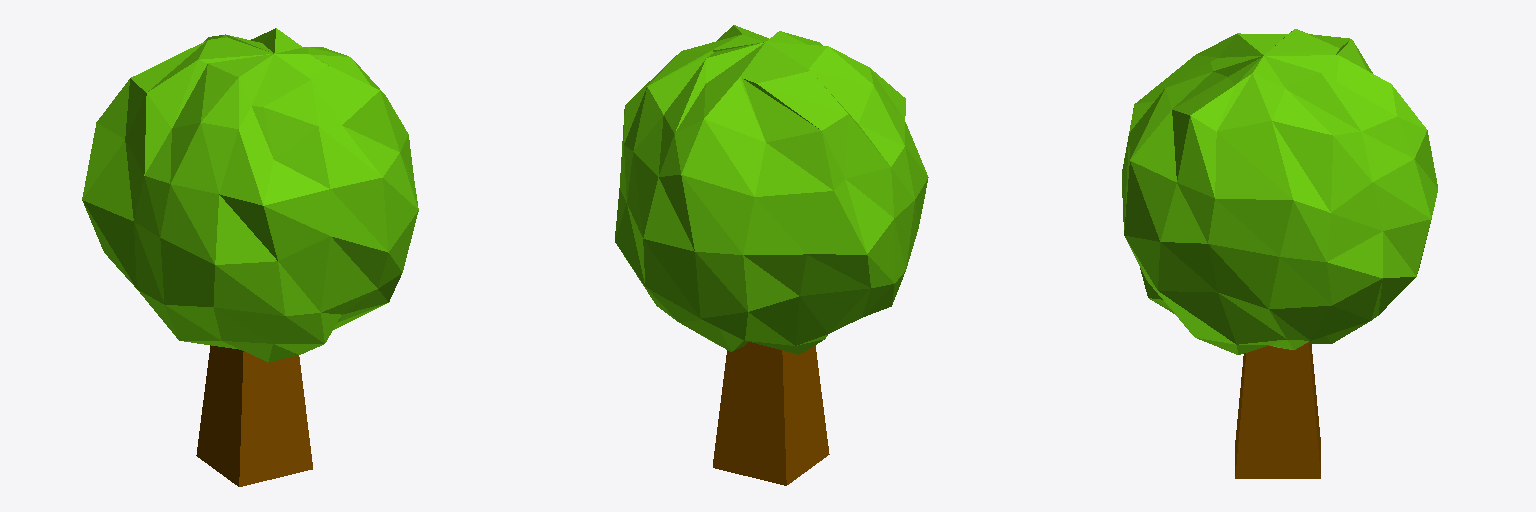
3 renders of one model, left to right at view 1: azimuth 30°, elevation 25°; view 2: azimuth 150°, elevation 25°; view 3: azimuth 270°, elevation 25°, orthographic.
Visible parts, largest first — view 1: Cube26; view 2: Cube26; view 3: Cube26.
Part boxes in pixels (x1,y1,x2,y2): Cube26: (82,28,418,486); Cube26: (615,25,928,485); Cube26: (1122,29,1437,478).
Size of the model in its own units: 2.95 by 4.23 by 2.96.
1 materials, 1 textured.